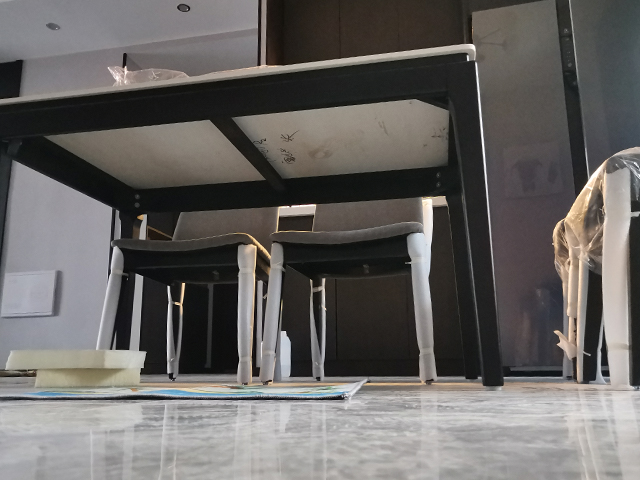carpet: (1, 376, 370, 403)
stool: (94, 208, 285, 387), (257, 195, 438, 383)
table: (1, 40, 506, 391)
